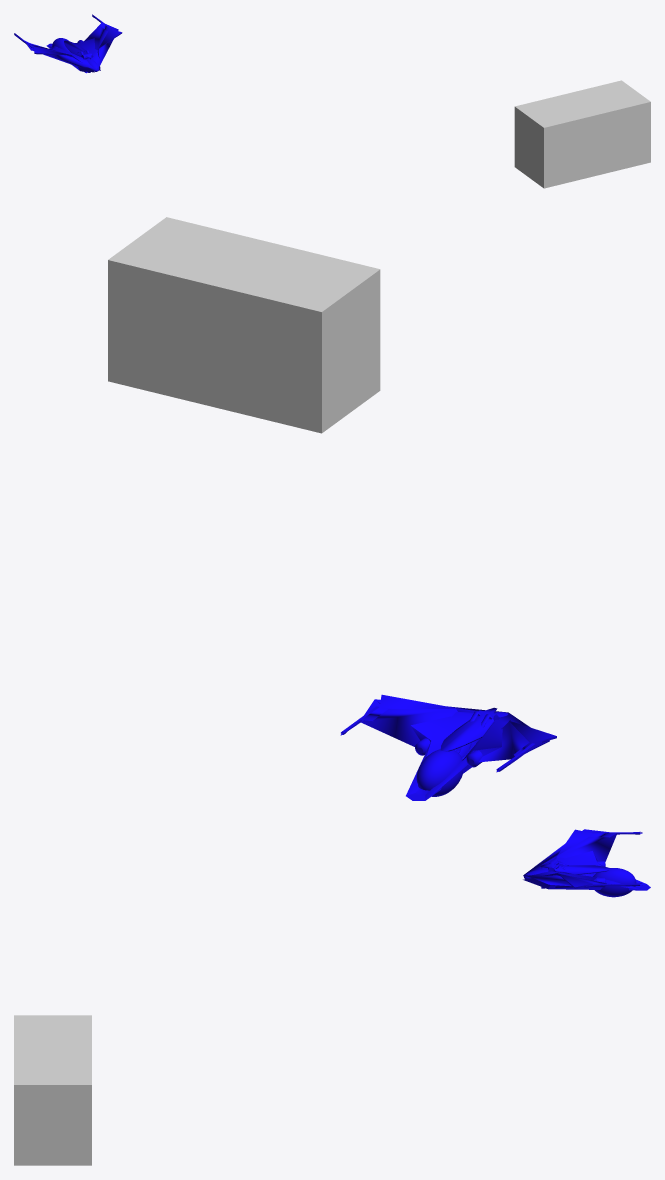
Rendered from Ship Model.FBX.
3 views of the same model, one above another, from view 1: azimuth 30°, elevation 25°; view 2: azimuth 150°, elevation 25°; view 3: azimuth 270°, elevation 25° (orthographic). The views are drawn at different scales.
Visible parts, largest first — view 1: Box003, Box002; view 2: Box003, Box002, Sphere002, Cylinder005; view 3: Box003, Box002, Sphere002, Cylinder005.
Boxes of the visible parts, left/top/right/bottom form: Box003: left=514, top=80, right=650, bottom=188; Box002: left=14, top=14, right=122, bottom=72; Box003: left=108, top=217, right=380, bottom=433; Box002: left=340, top=694, right=556, bottom=800; Sphere002: left=416, top=749, right=462, bottom=796; Cylinder005: left=440, top=707, right=499, bottom=751; Box003: left=14, top=1015, right=91, bottom=1165; Box002: left=523, top=829, right=650, bottom=890; Sphere002: left=593, top=868, right=636, bottom=897; Cylinder005: left=540, top=862, right=610, bottom=874.
Bounding box in the file's own units: 486 × 69.38 × 495.
